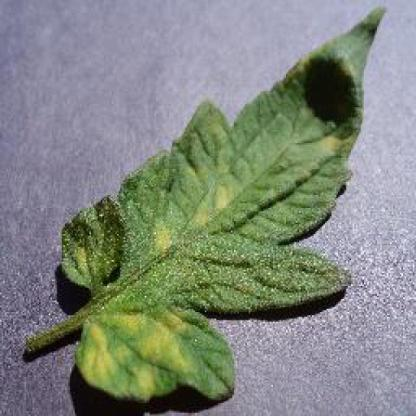Tomato_Leaf_Mold: (59, 8, 386, 400)
